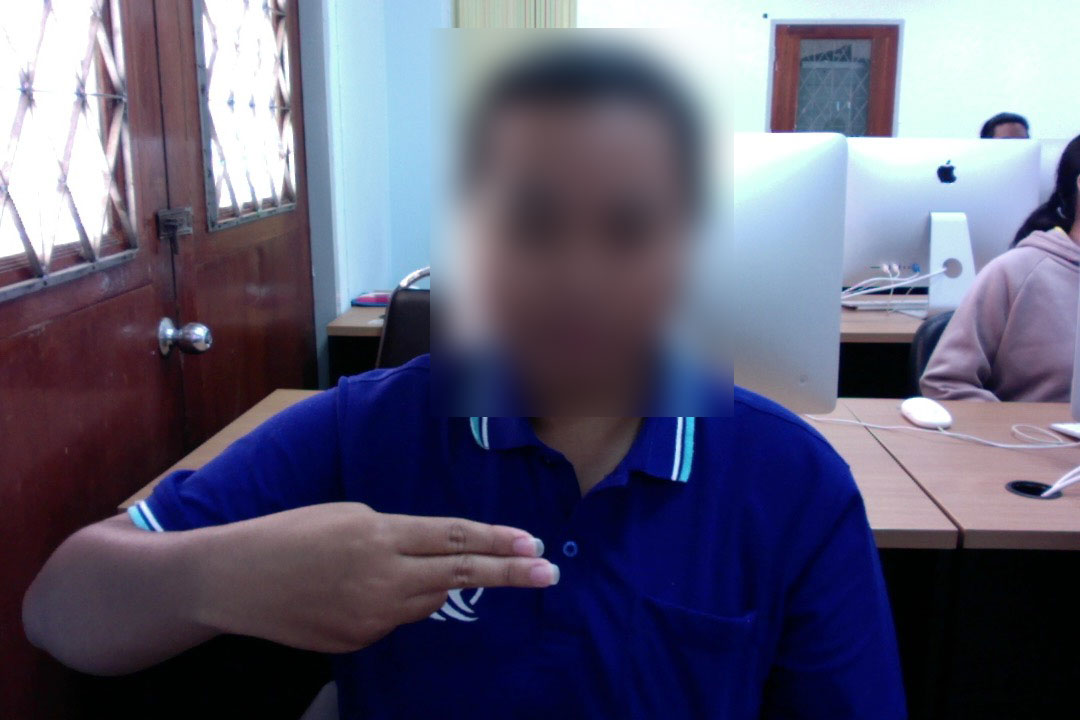hor: (216, 496, 567, 659)
